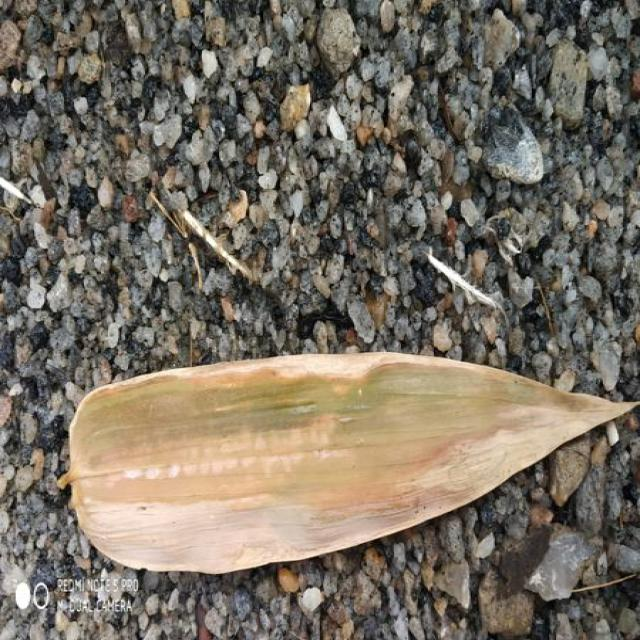Bamboo: (68, 352, 635, 573)
defectedBamboo: (60, 352, 637, 572)
